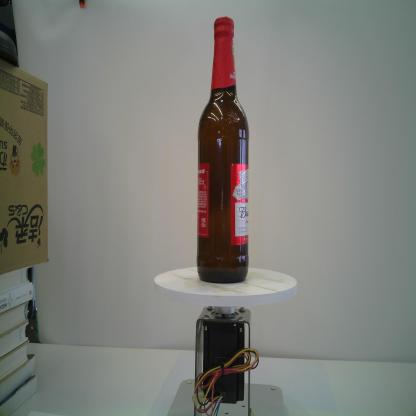Alcohol: (197, 14, 249, 285)
